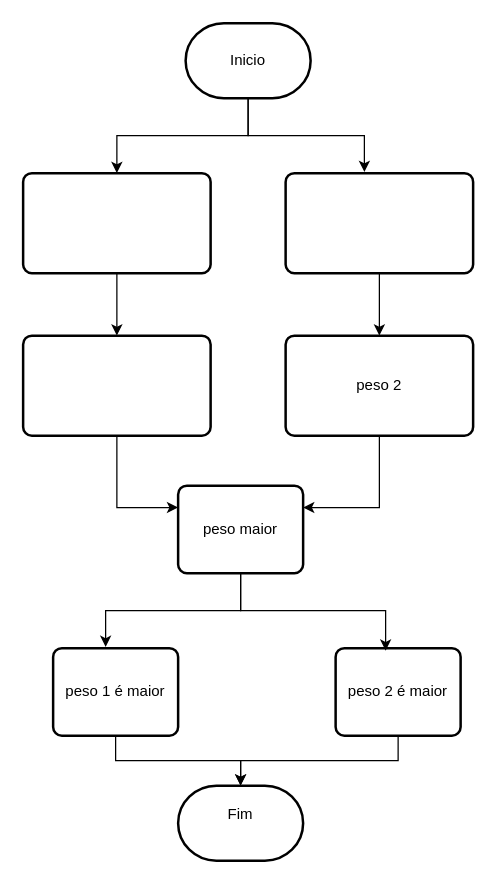
This 495x883 diagram has some shape labels left out. Here are the shapes that lost their labels. From the top down, the box of each, then its label:
(21, 171, 211, 274): nome 1
(284, 171, 474, 274): nome 2
(21, 334, 211, 436): peso 1
